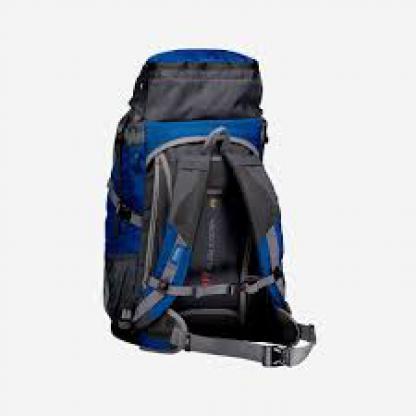morral: (81, 33, 333, 377)
